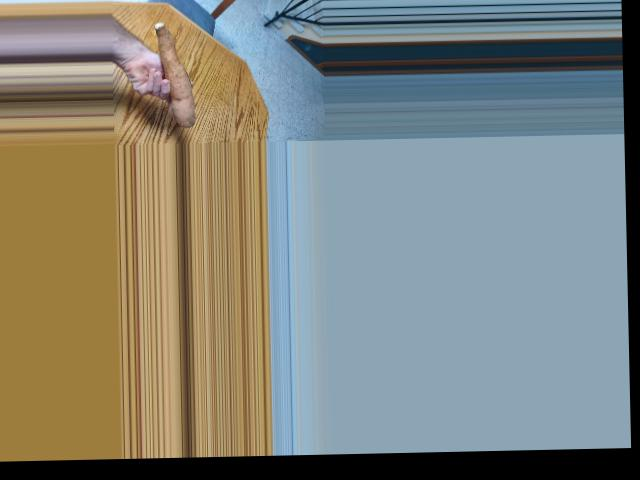sweet_potato: (148, 23, 201, 125)
